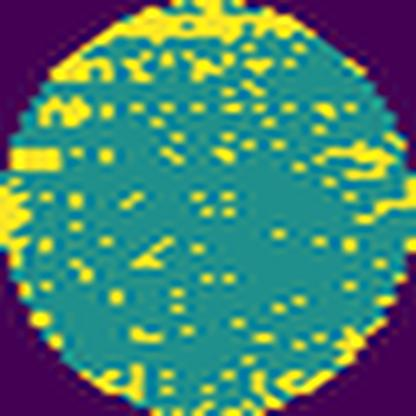Edge-Loc: (43, 0, 312, 85), (0, 181, 41, 271), (357, 172, 415, 230), (5, 140, 64, 177)
